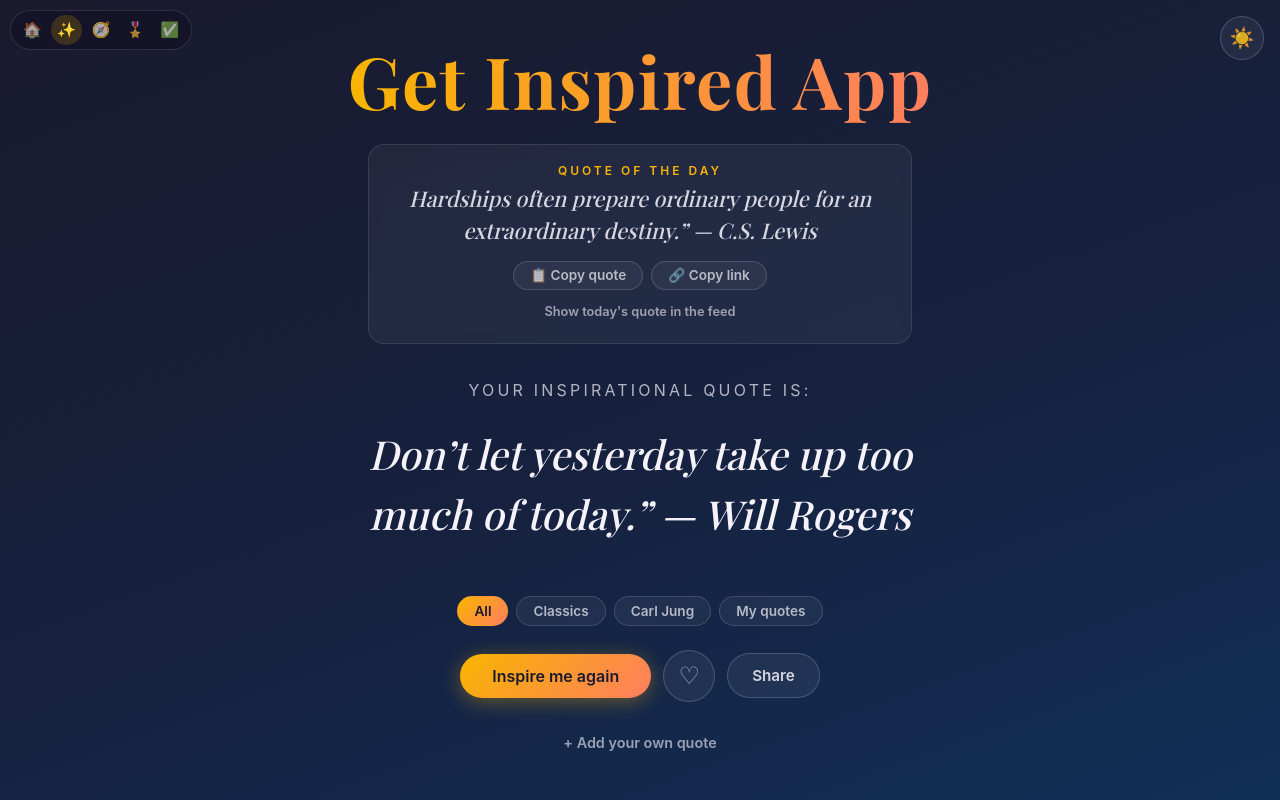
Test: App › deletes a custom quote and empties the My quotes view
Click the button "+ Add your own quote": (640,742) [555,730,725,754]
(page scrolled)
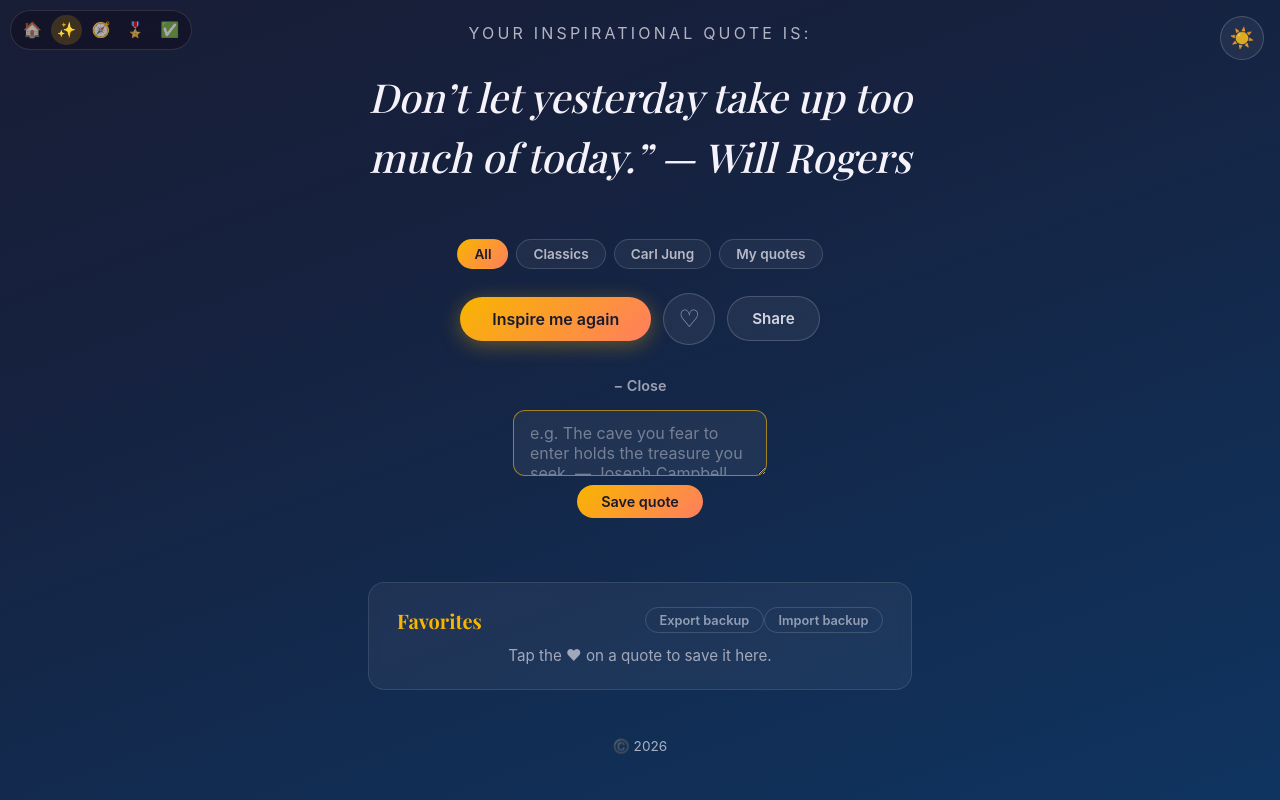
Replace the text in the text box named "your quote" with "Doomed quote — Me": (640,442) [513,410,767,476]
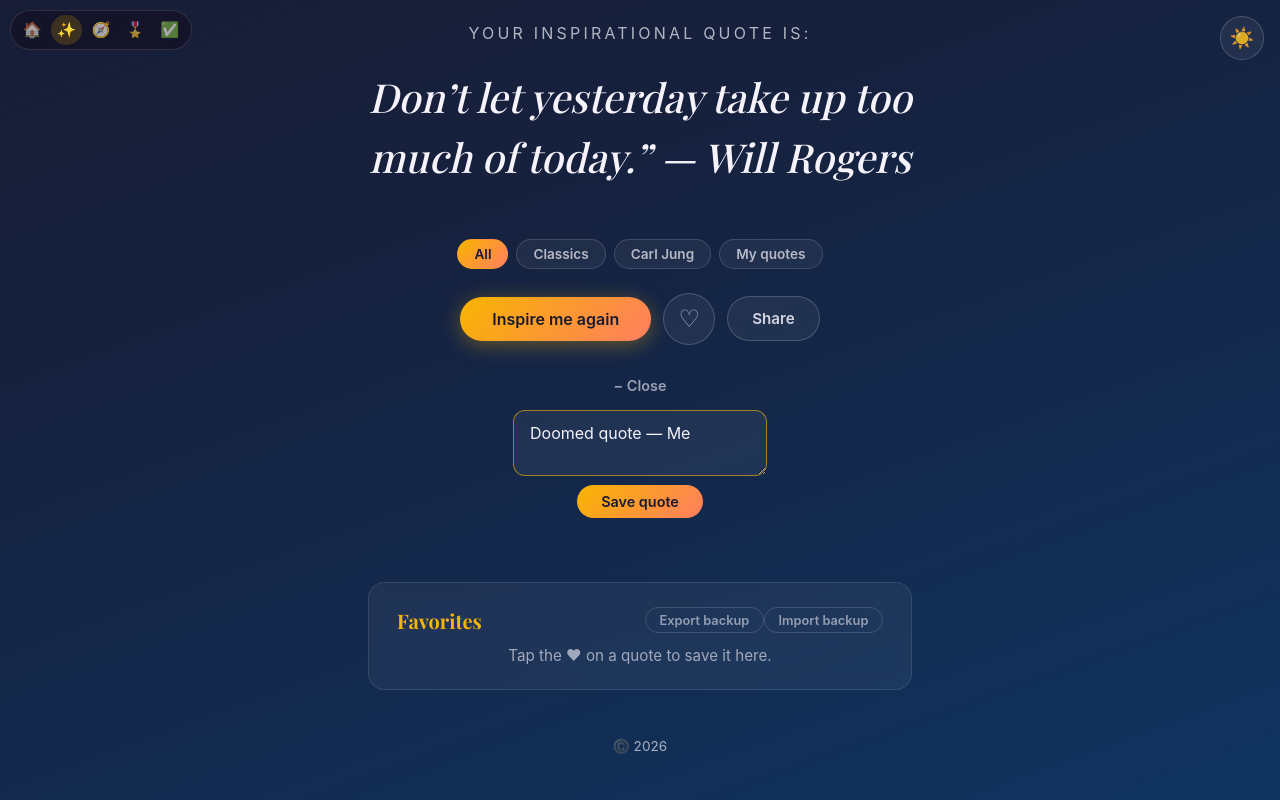
Click the button "Save quote": (640,502) [577,485,703,518]
(page scrolled)
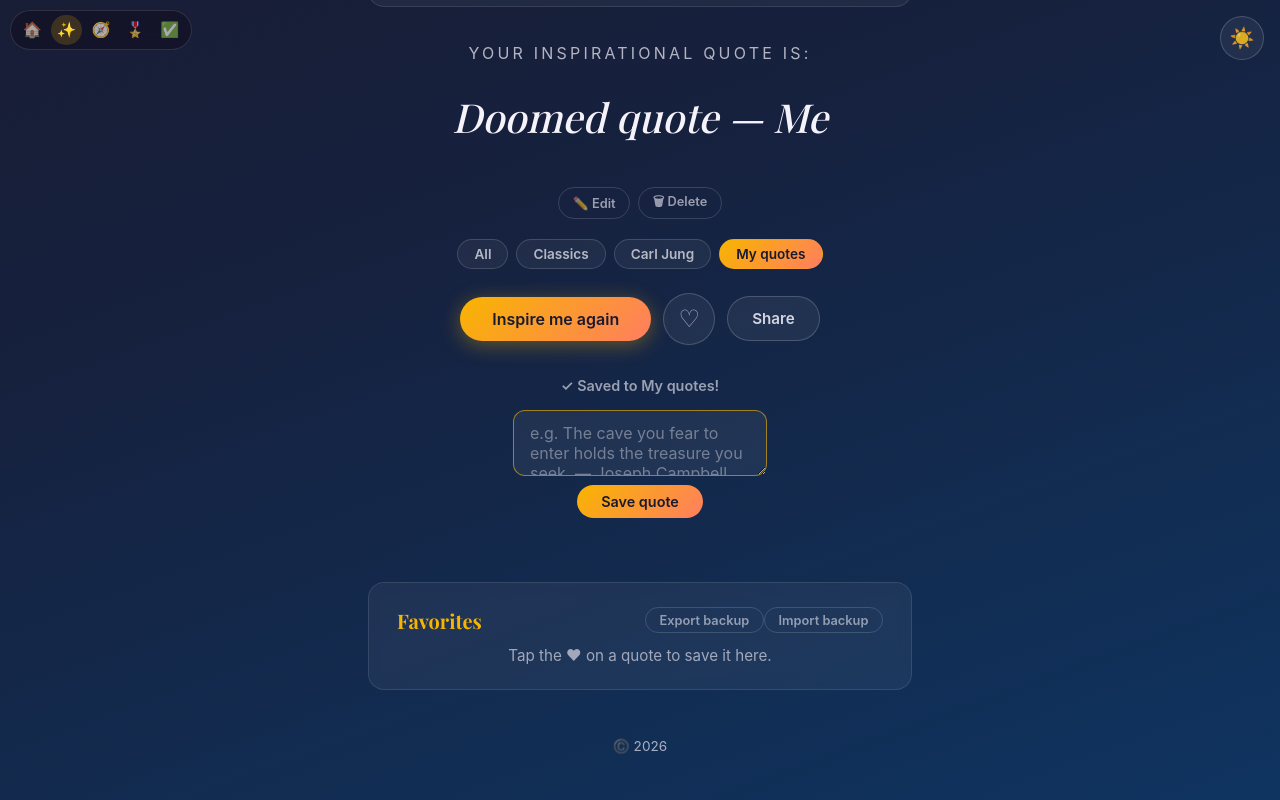
Click the button with aria-label "delete this quote": (680,203) [638,187,722,219]
(page scrolled)
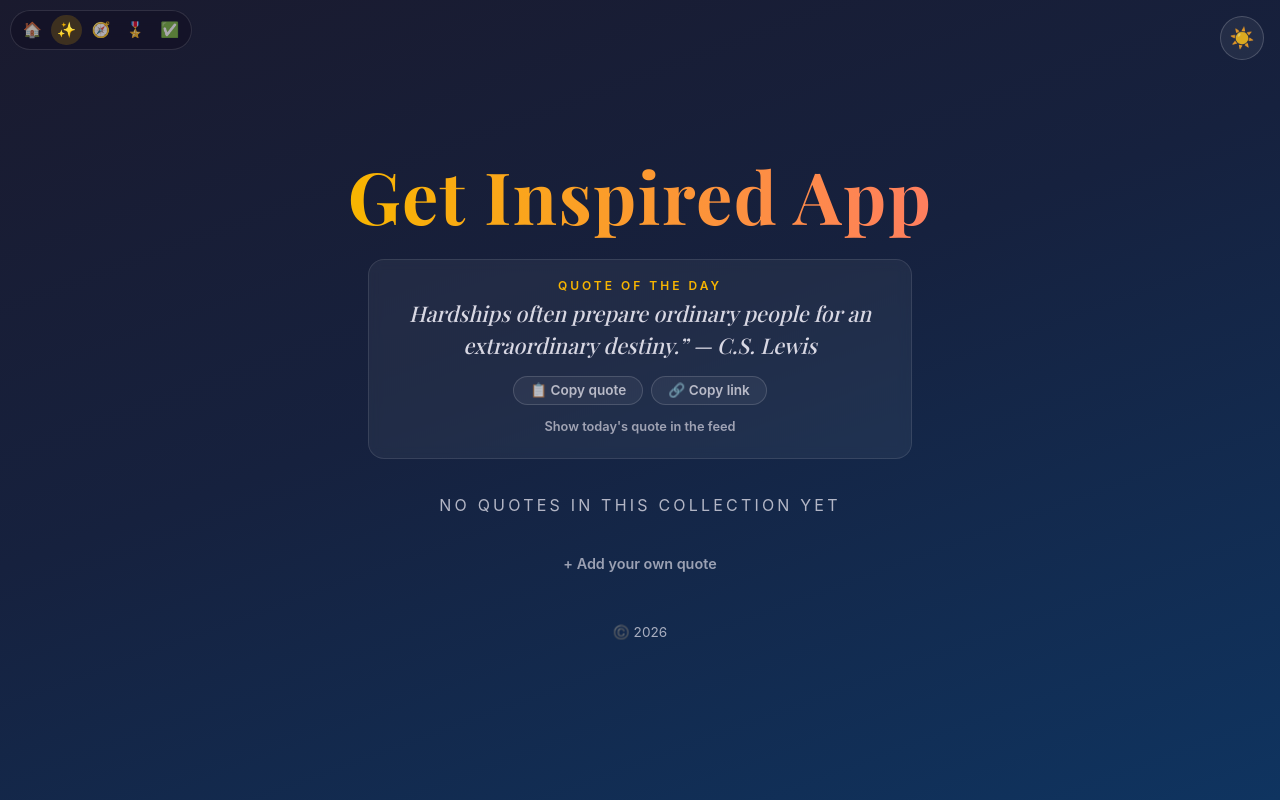
Now the text "No quotes in this collection yet" is shown, box [439,495,841,515]
